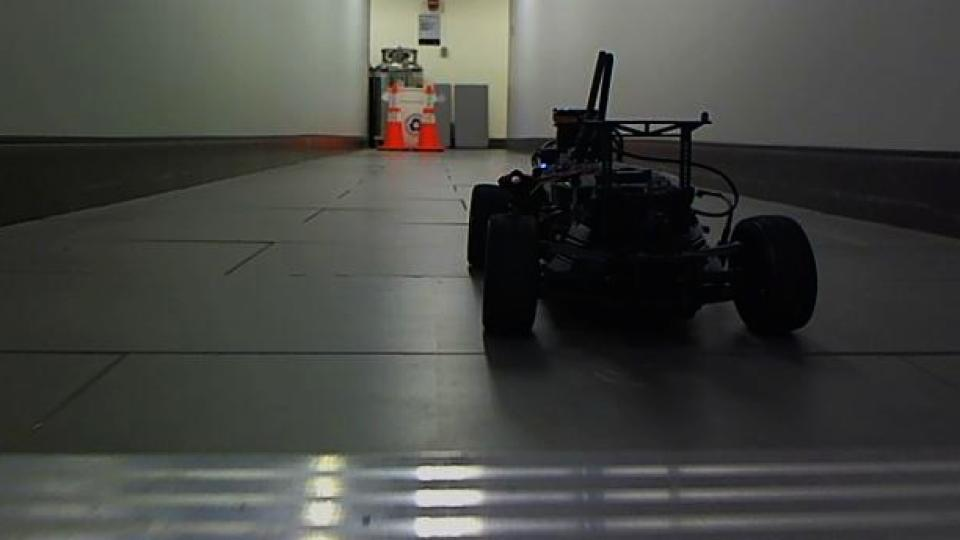car: (463, 49, 820, 344)
